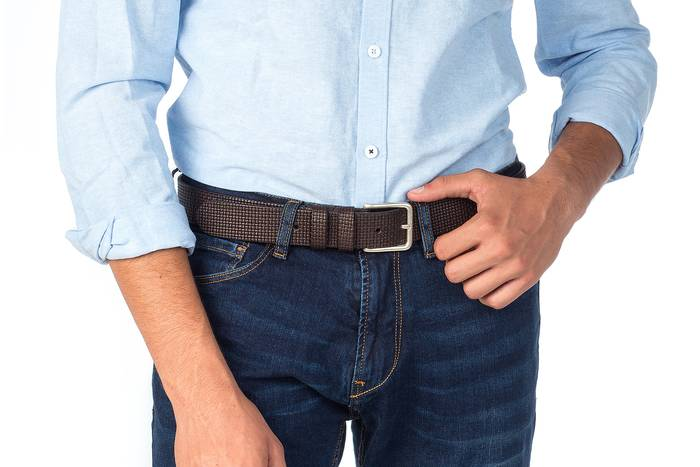C_jeans: (163, 172, 548, 467)
F_belt: (160, 171, 458, 253)
F_shirt: (73, 1, 654, 265)
